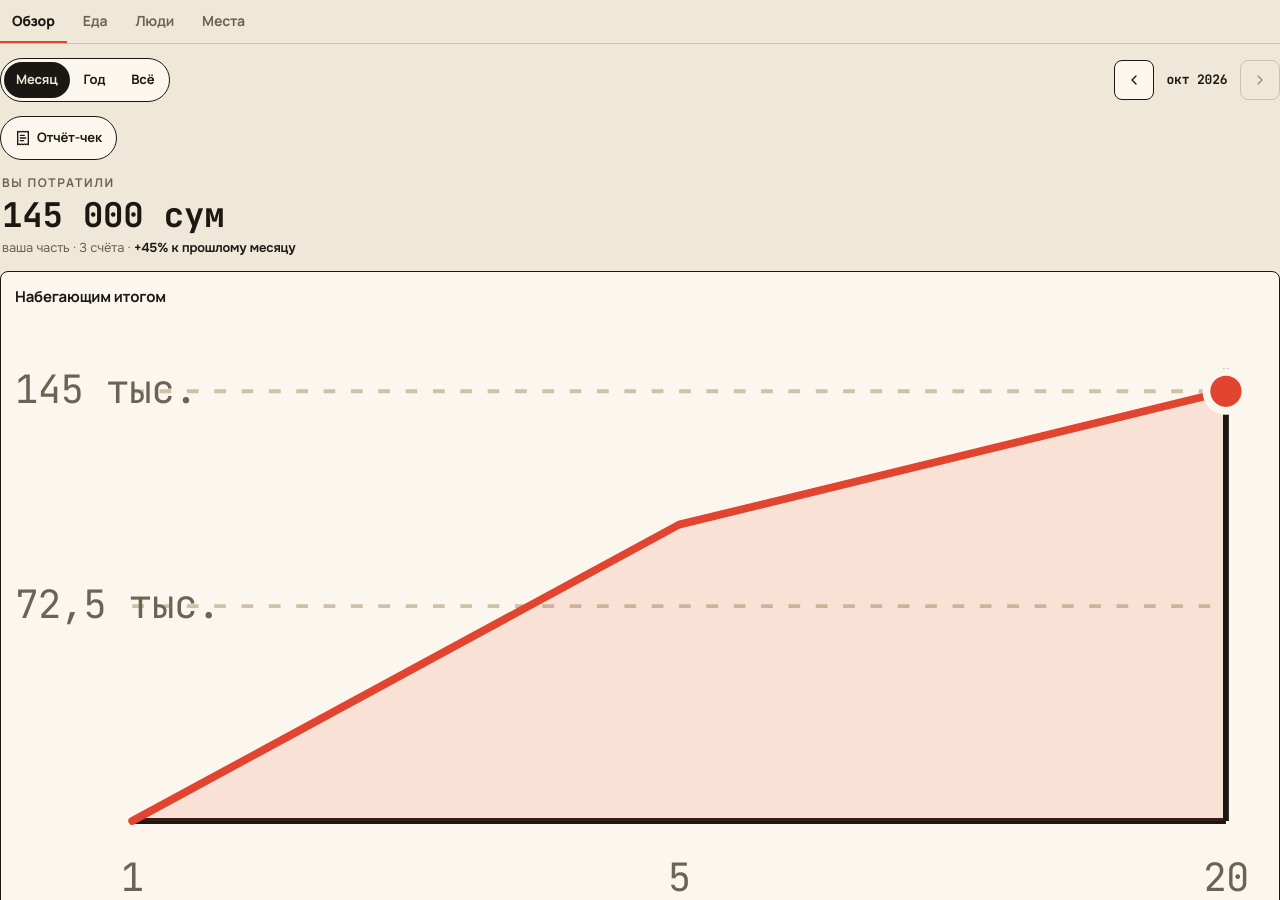
Test: AnalyticsPanel › moves between sections without asking again
Expected: the text "Вы потратили" is shown, [2, 174, 115, 190]
Click the button "Еда" at (95, 22), box [71, 0, 119, 44]
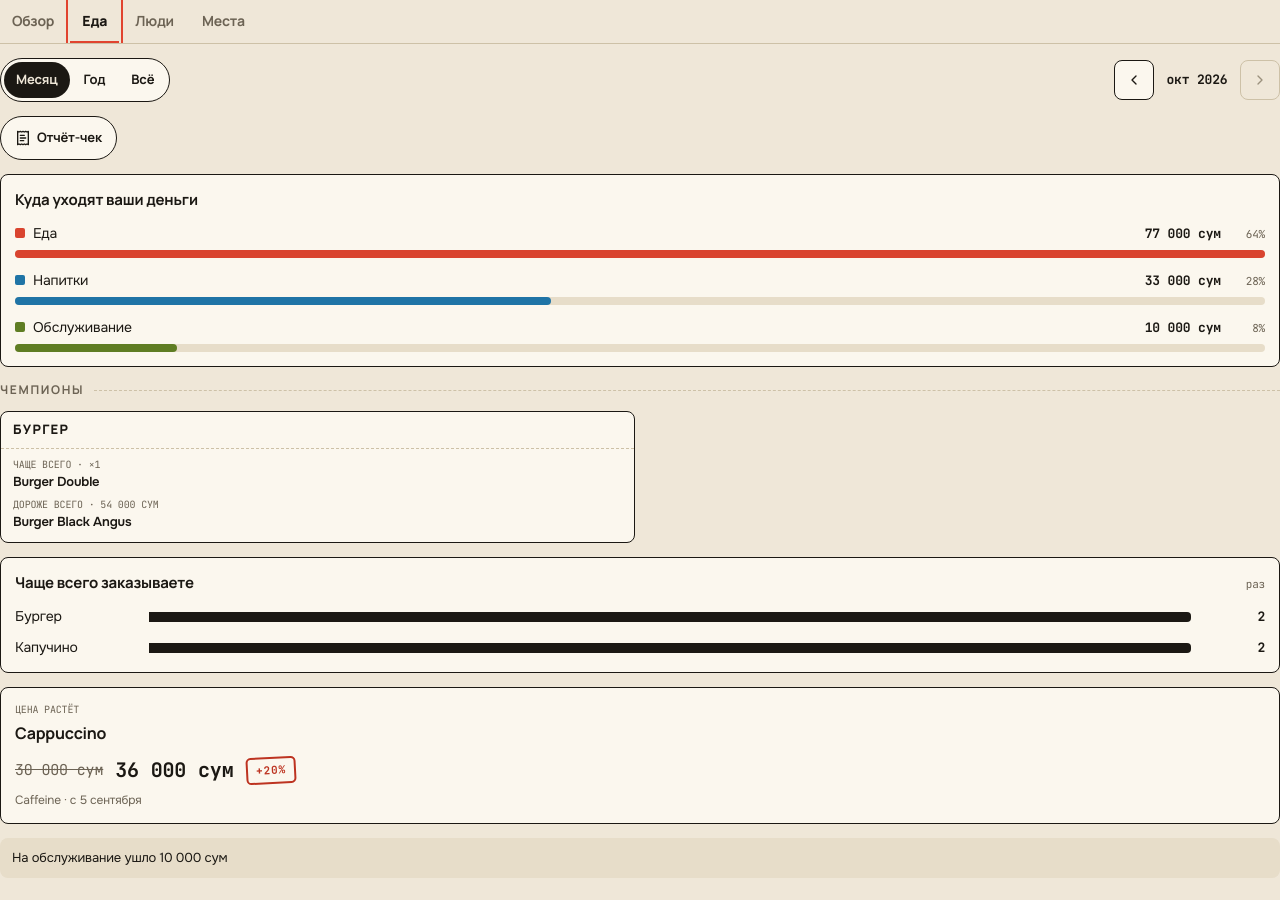
Now the text "Burger Black Angus" is shown, box [13, 513, 131, 530]
Now the heading "Куда уходят ваши деньги" is shown, box [15, 188, 198, 211]
Click the button "Люди" at (155, 22), box [123, 0, 186, 44]
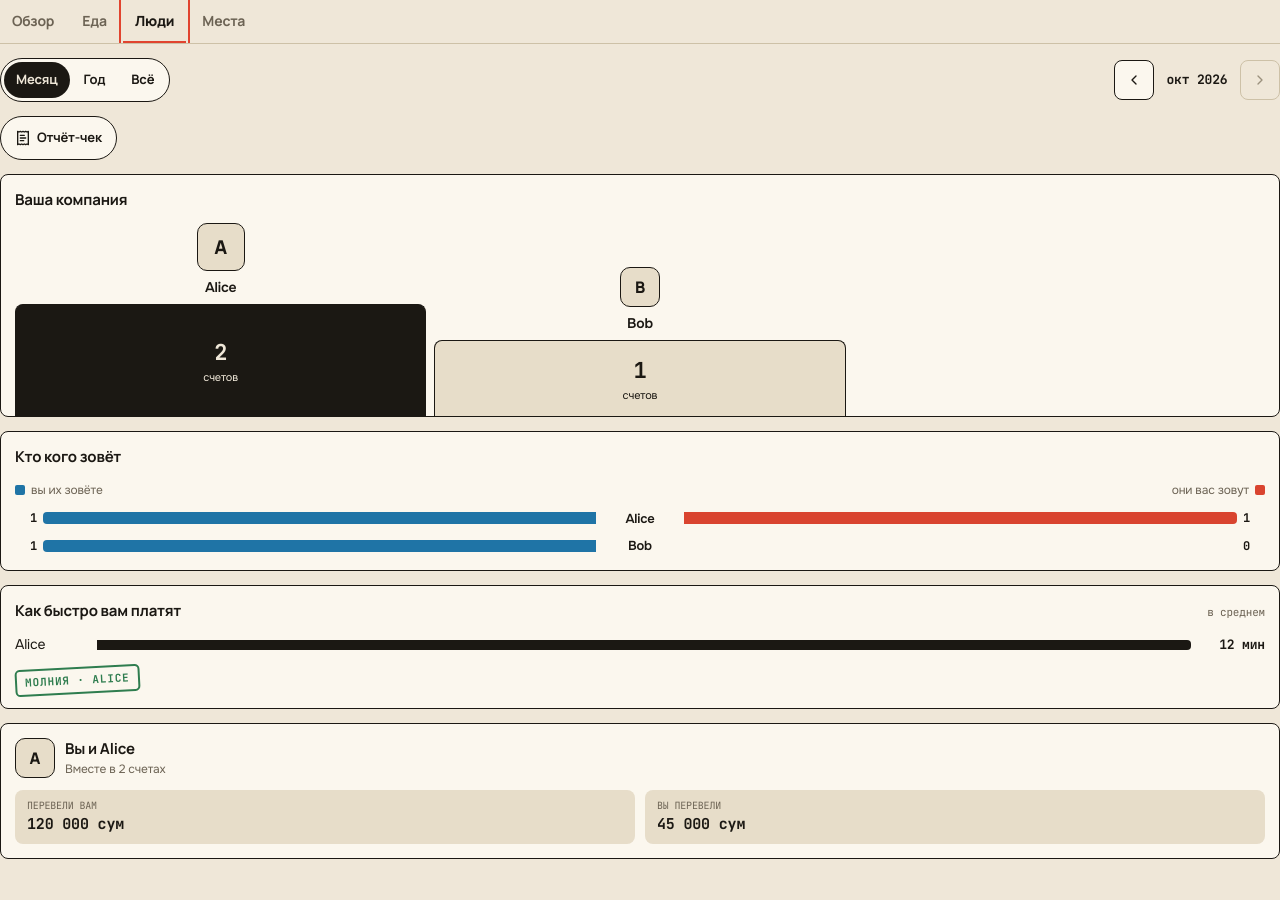
Now the text "Вы и Alice" is shown, box [65, 738, 135, 758]
Click the button "Места" at (224, 22), box [190, 0, 257, 44]
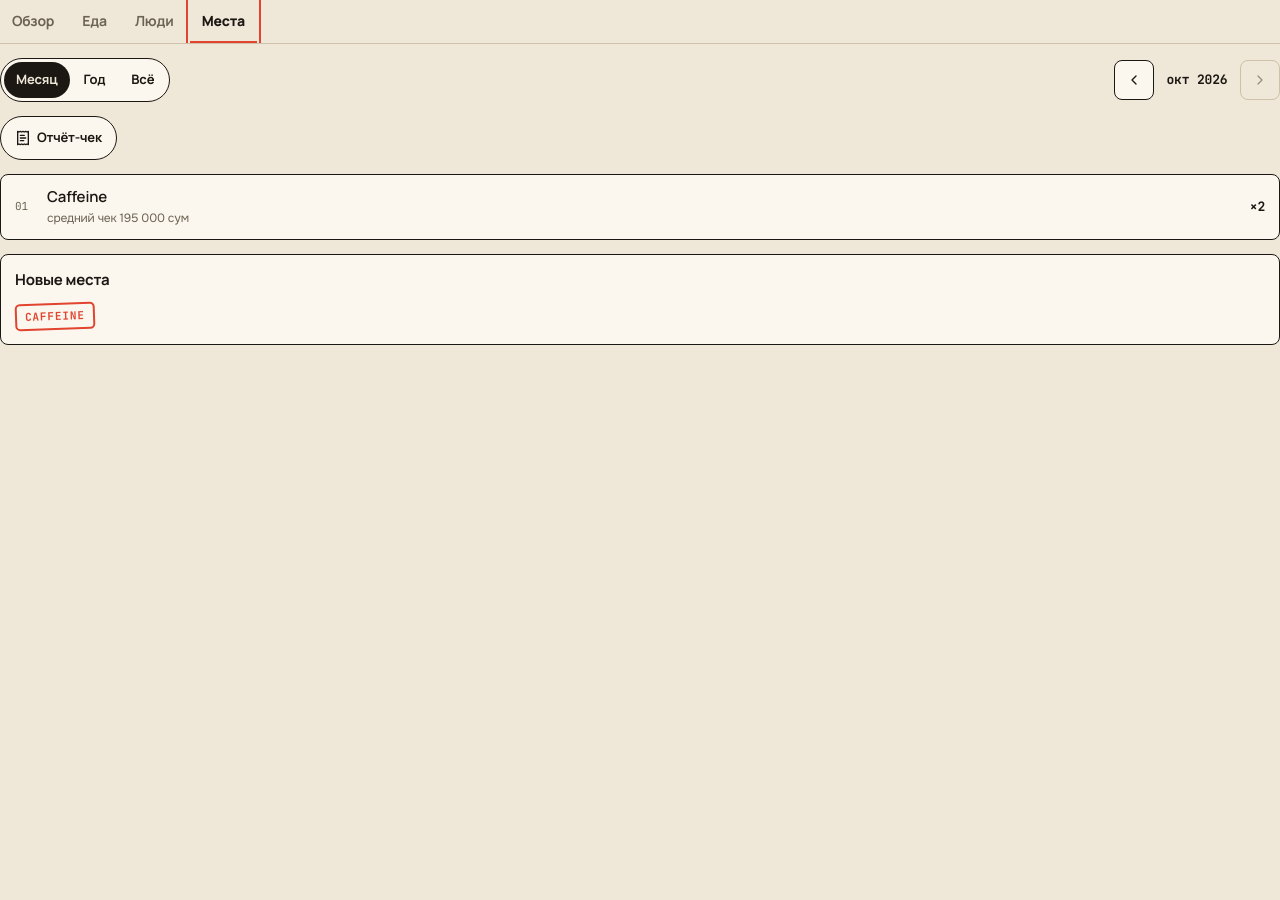
Now the text "Caffeine" next to "01" is shown, box [47, 186, 107, 207]
